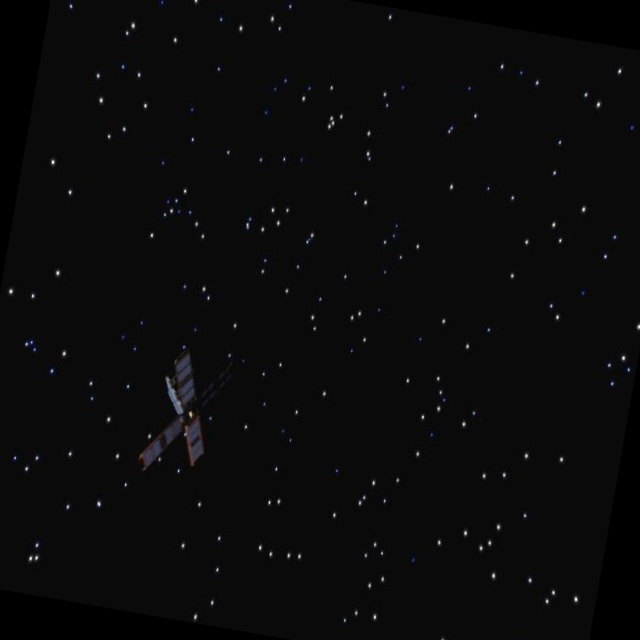medium_debris: (127, 327, 252, 488)
